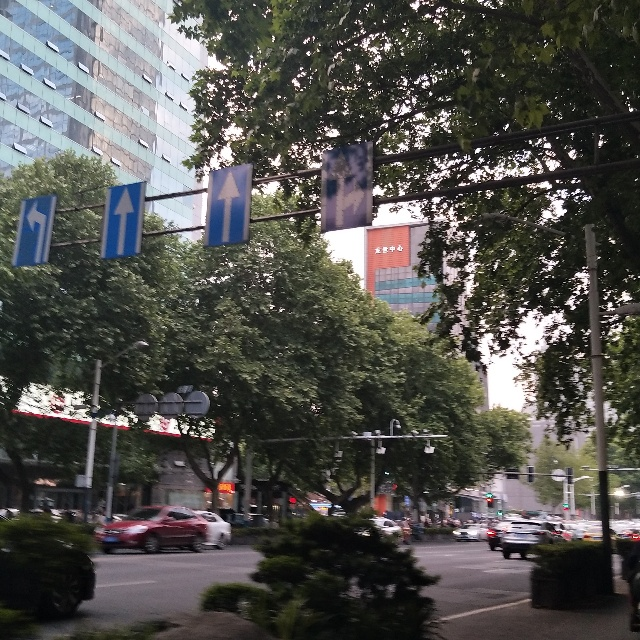left: (11, 193, 58, 275)
straight: (203, 164, 254, 253), (101, 179, 149, 263)
